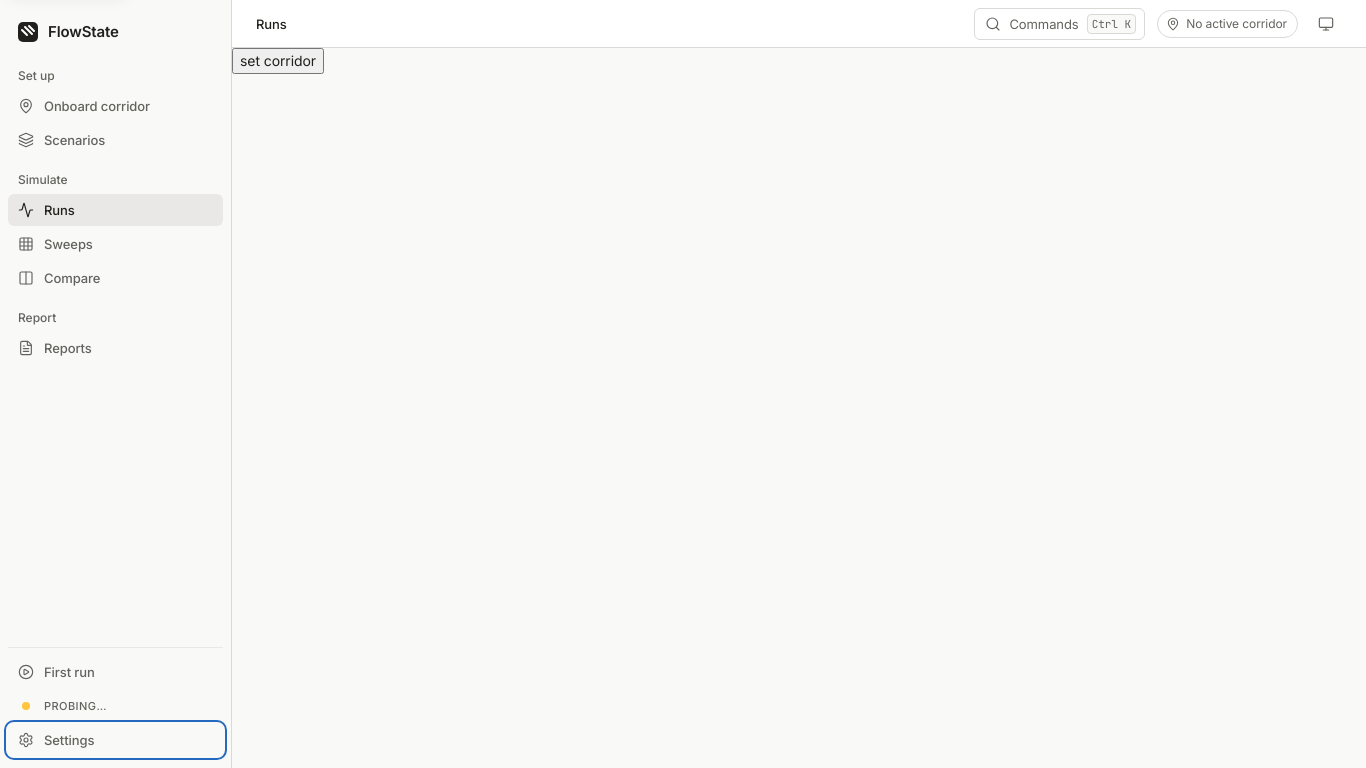
Scenario: settings drawer › takes focus, makes the app inert, closes on Escape and returns focus
Step 1. Click the button "Settings" → coordinates (116, 740), box top-left (8, 724), bottom-right (223, 756)
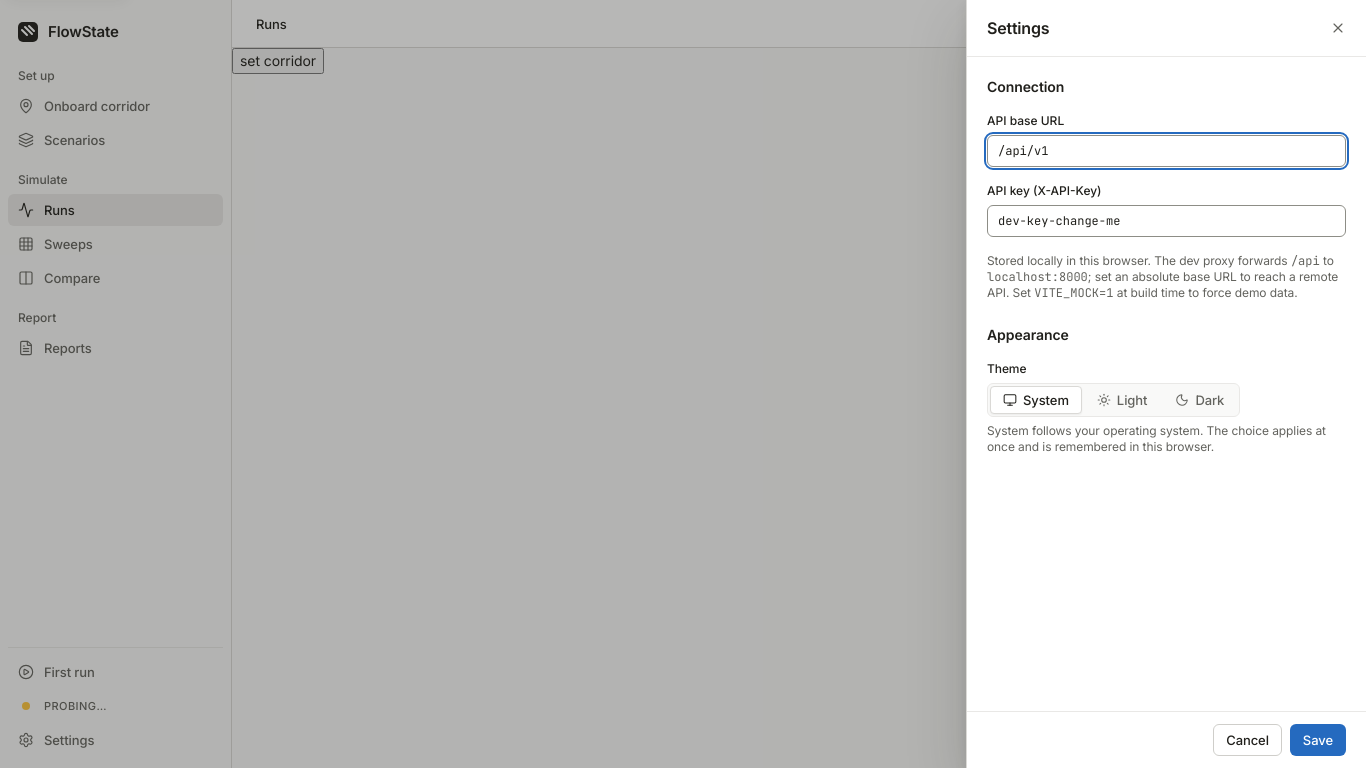
Expected: the element that starts with "Skip to content" has attribute inert
Step 2. Press Escape
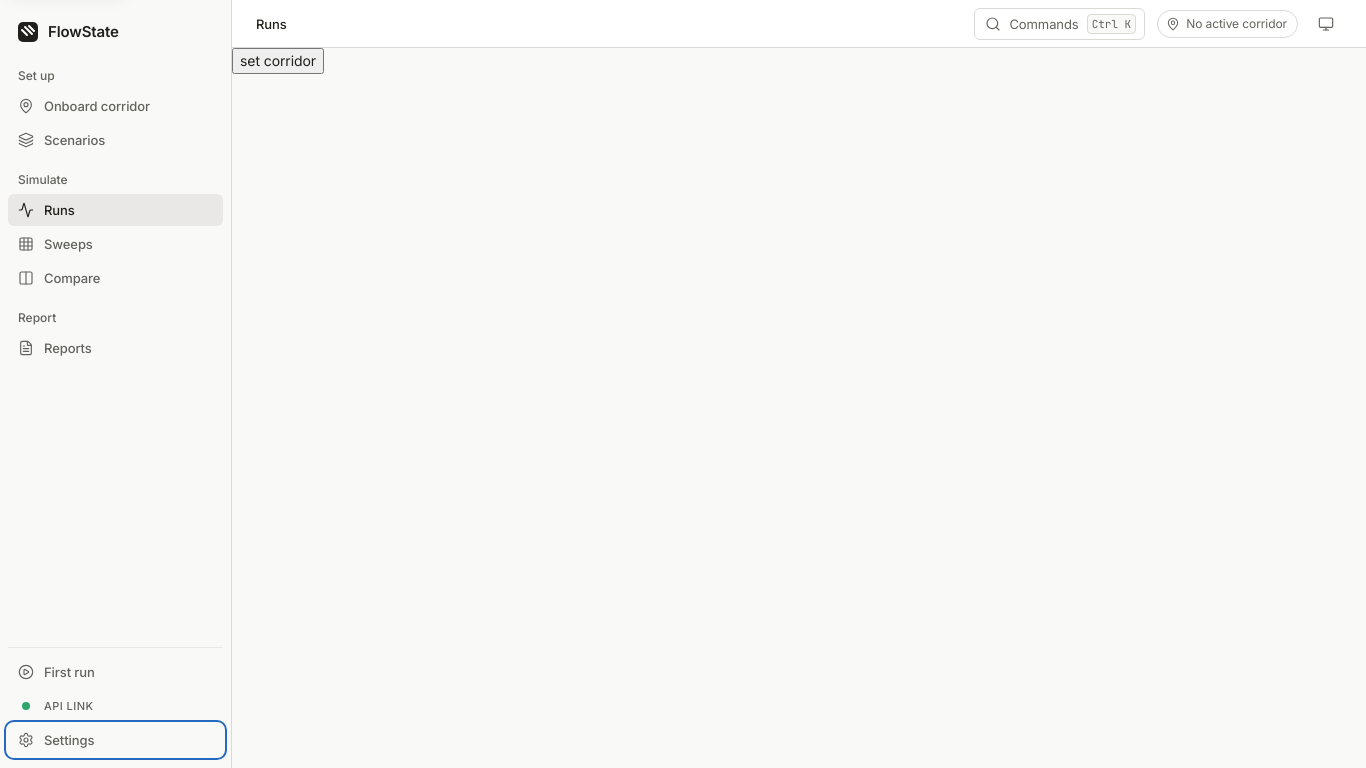
Expected: the text "API LINK" is shown, top-left (44, 698), bottom-right (93, 714)
